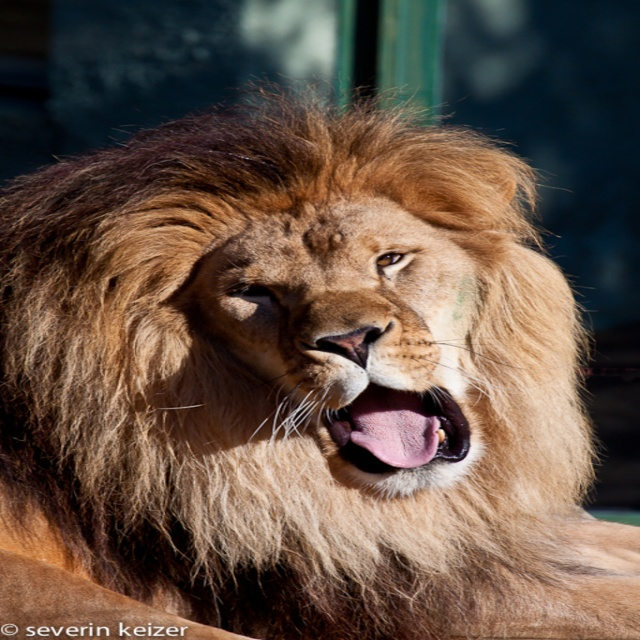Lion: (2, 70, 639, 640)
